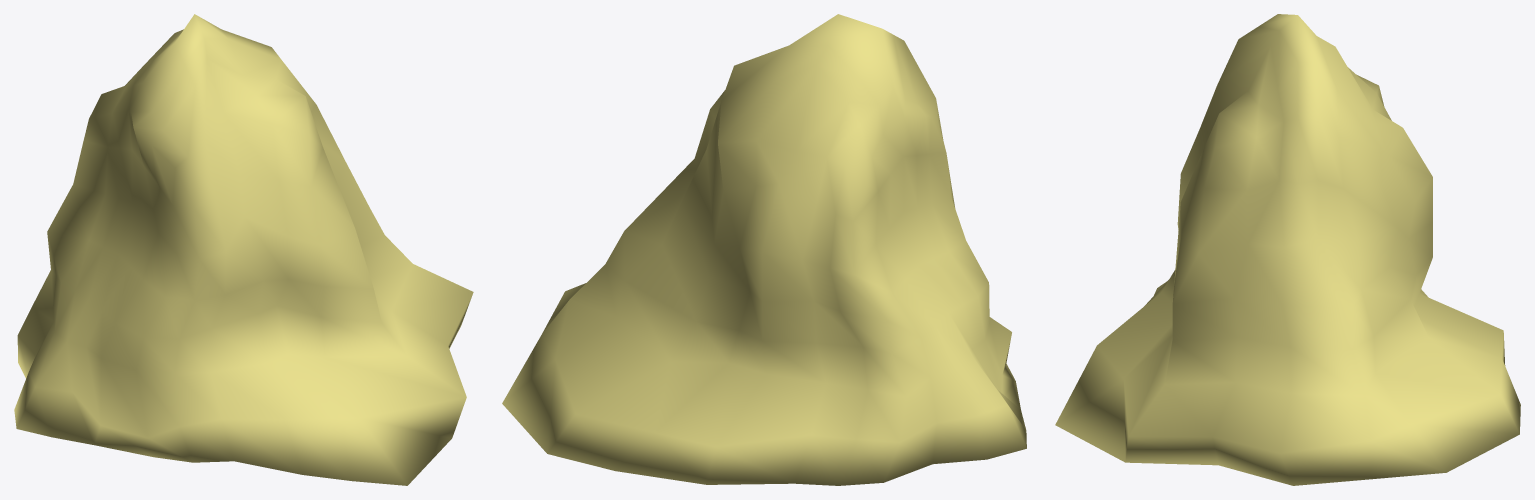
Rendered from GryphonBossPlatforms2.fbx.
3 views of the same model, side by side, from view 1: azimuth 30°, elevation 25°; view 2: azimuth 150°, elevation 25°; view 3: azimuth 270°, elevation 25° (orthographic). The views are drawn at different scales.
Parts seen in each view (by area): view 1: Mountain; view 2: Mountain; view 3: Mountain.
Boxes of the visible parts, bbox=[...] form: Mountain: bbox=[14, 14, 473, 485]; Mountain: bbox=[502, 14, 1026, 485]; Mountain: bbox=[1055, 14, 1520, 485].
Bounding box in the file's own units: 2872 × 2432 × 2759.
